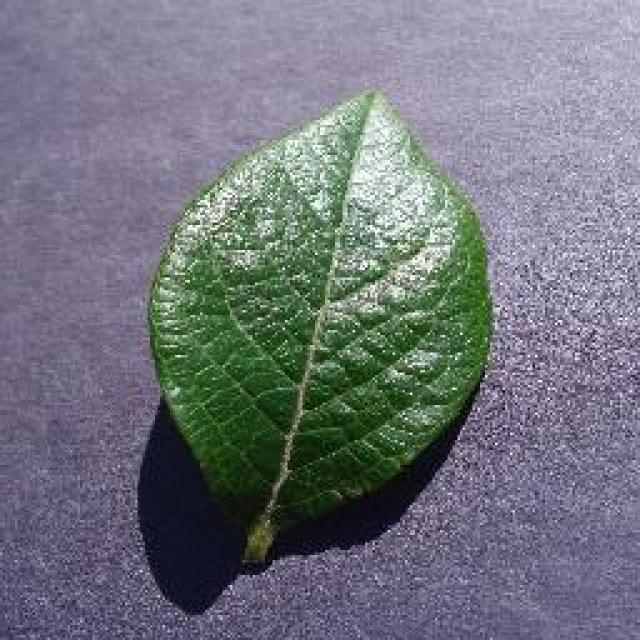Blu_healthy: (168, 152, 468, 488)
